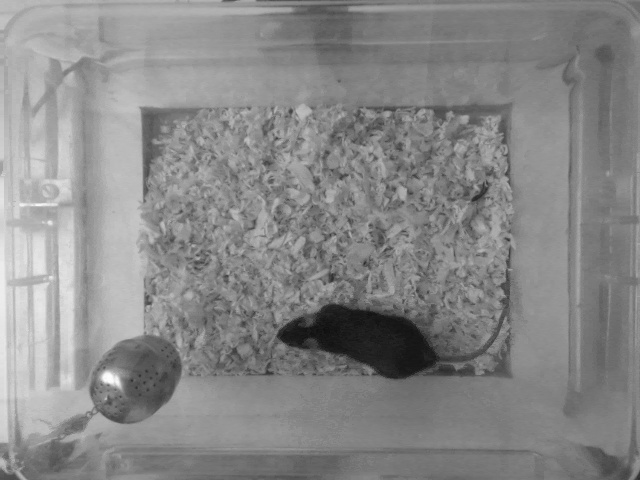mice: (275, 247, 515, 382)
